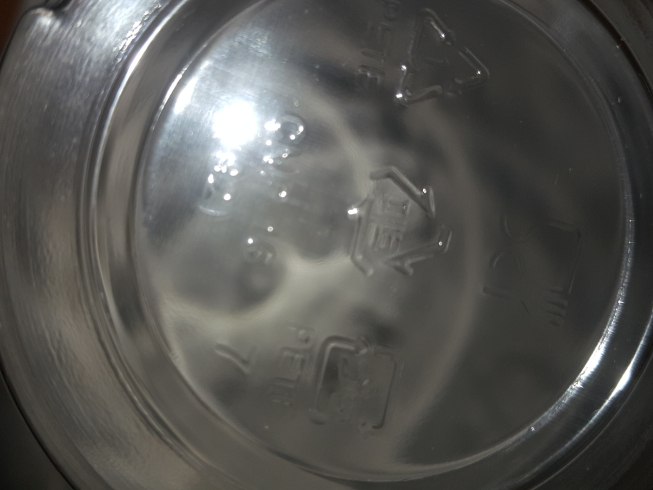recycle: (358, 3, 494, 130)
